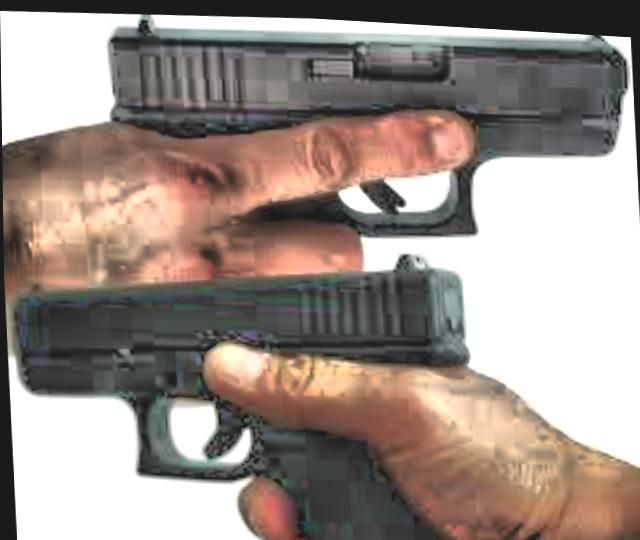pistol: (3, 220, 477, 540), (88, 4, 627, 252)
